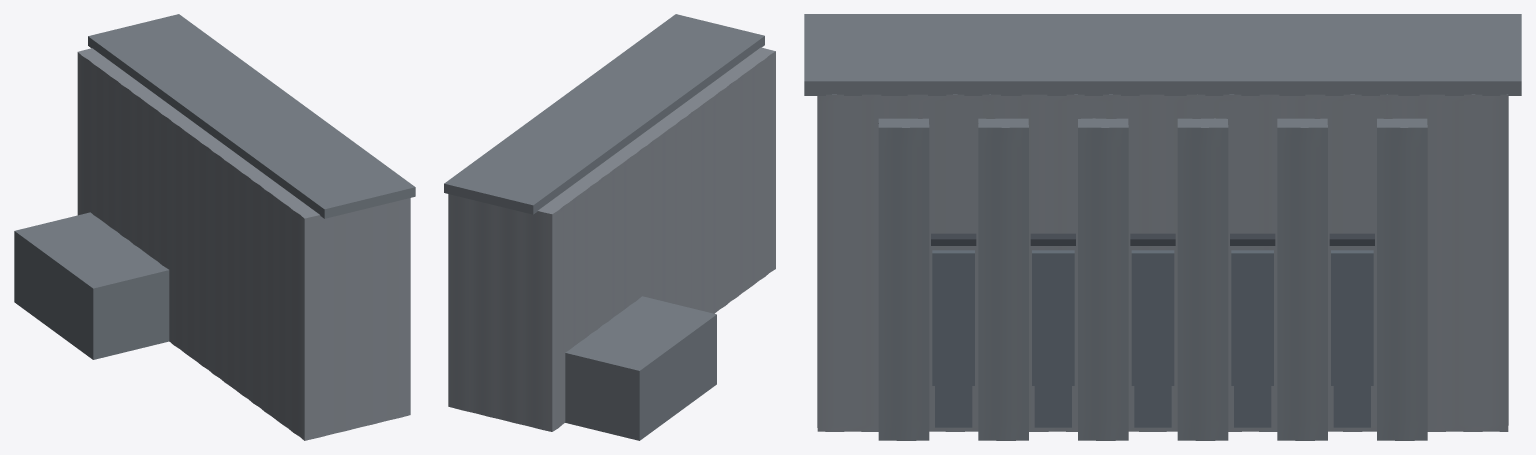
File: xiangjiaba-dam.glb
The picture shows the model from 3 angles, left to right: view 1: azimuth 30°, elevation 25°; view 2: azimuth 150°, elevation 25°; view 3: azimuth 270°, elevation 25°; orthographic projection. The views are drawn at different scales.
Visible parts, largest first — view 1: 向家坝大坝, 坝顶, 向家坝电站厂房; view 2: 向家坝大坝, 坝顶, 向家坝电站厂房; view 3: 向家坝大坝, 坝顶, pier_5, pier_2, pier_1, pier_4, pier_0, pier_3, 3号闸门, 1号闸门, 2号闸门, 4号闸门 (+6 smaller).
Boxes of the visible parts, x1,y1,x2,y2 form: 向家坝大坝: (77,48,410,440); 坝顶: (88,14,415,218); 向家坝电站厂房: (14,212,169,359); 向家坝大坝: (448,47,775,431); 坝顶: (444,14,764,214); 向家坝电站厂房: (565,296,716,440); 向家坝大坝: (817,94,1508,431); 坝顶: (804,14,1521,95); pier_5: (878,118,929,440); pier_2: (1177,118,1228,440); pier_1: (1277,118,1327,440); pier_4: (978,118,1028,440); pier_0: (1377,118,1427,440); pier_3: (1078,118,1128,440); 3号闸门: (1130,233,1175,385); 1号闸门: (1329,233,1374,385); 2号闸门: (1230,233,1275,385); 4号闸门: (1030,233,1075,385).
Bounding box in the file's own units: 25.7 × 29.1 × 54.
